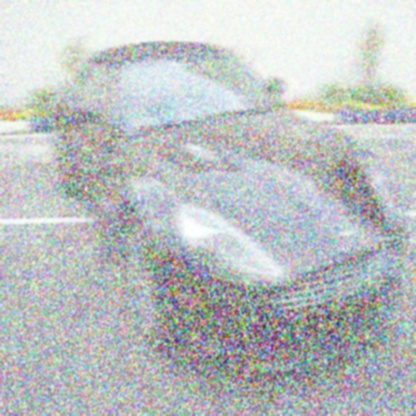Vehicle: (46, 38, 408, 380)
